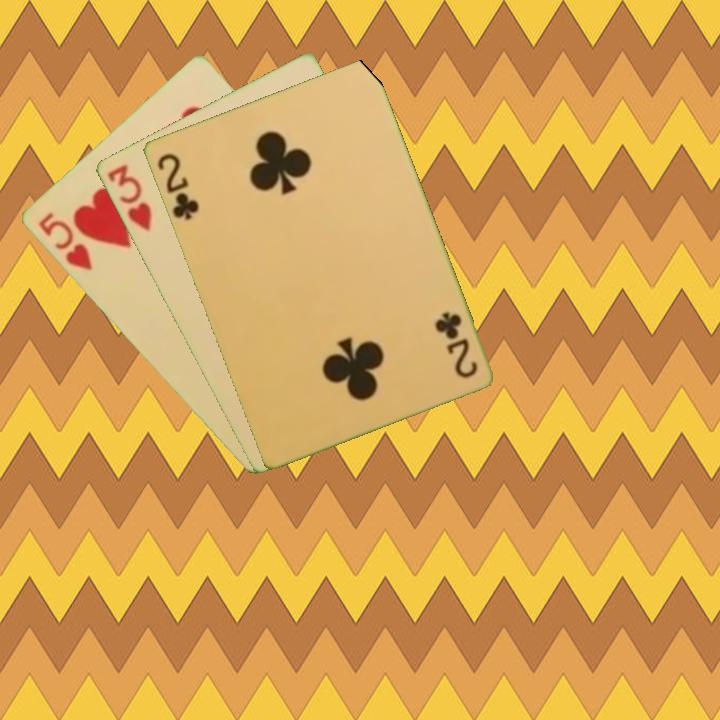2c: (153, 149, 202, 223), (432, 307, 480, 381)
3h: (103, 160, 154, 234)
5h: (34, 208, 95, 274)
